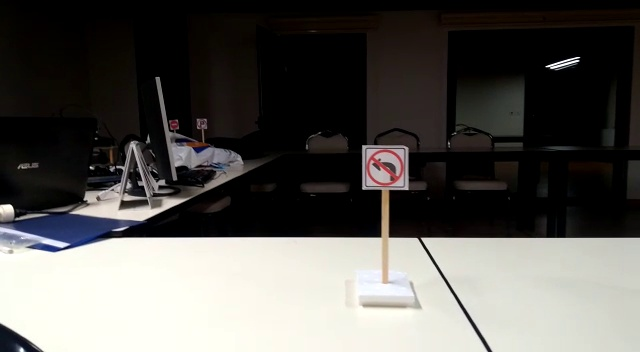sola_donulmez: (364, 150, 407, 188)
